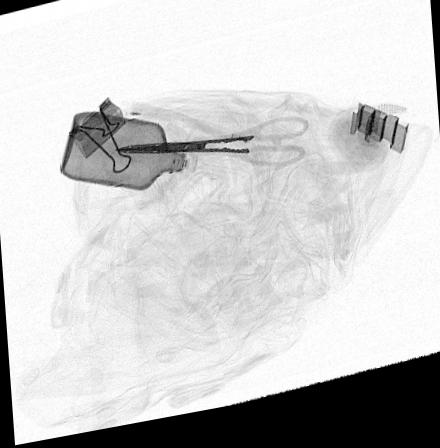Scissors: (114, 123, 311, 179)
